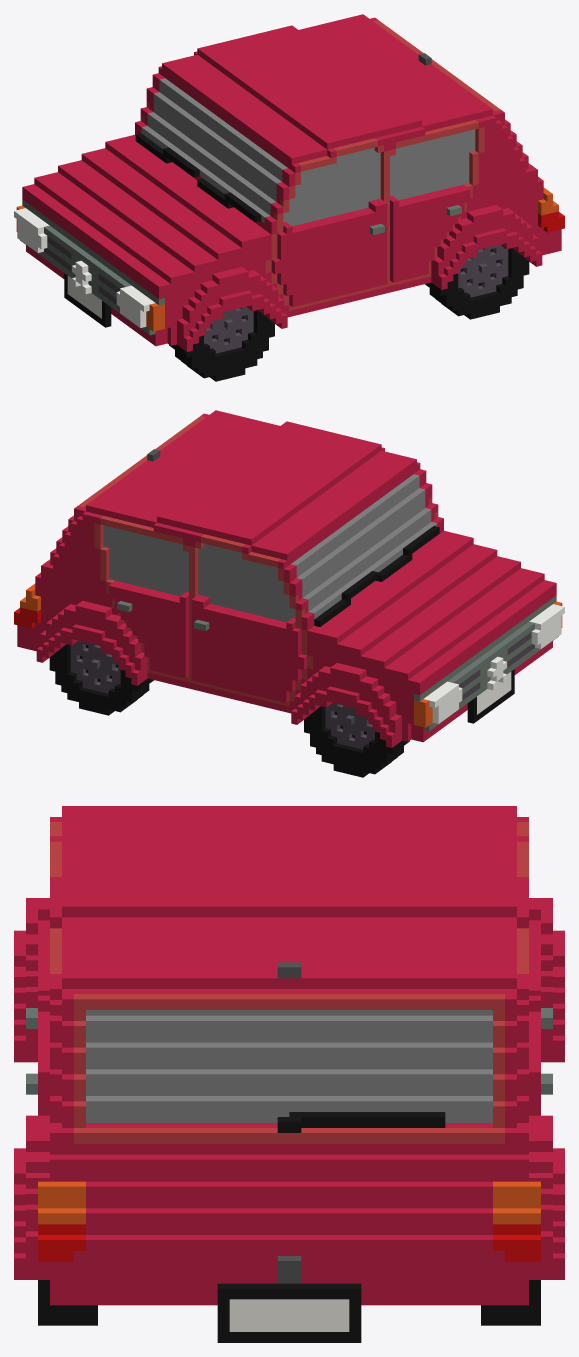
Rendered from coche rojo.obj.
3 views of the same model, one above another, from view 1: azimuth 30°, elevation 25°; view 2: azimuth 150°, elevation 25°; view 3: azimuth 270°, elevation 25° (orthographic). The views are drawn at different scales.
Bounding box in the file's own units: 7.2 × 3.3 × 4.6.
Materials: 1 (1 with a texture image).
